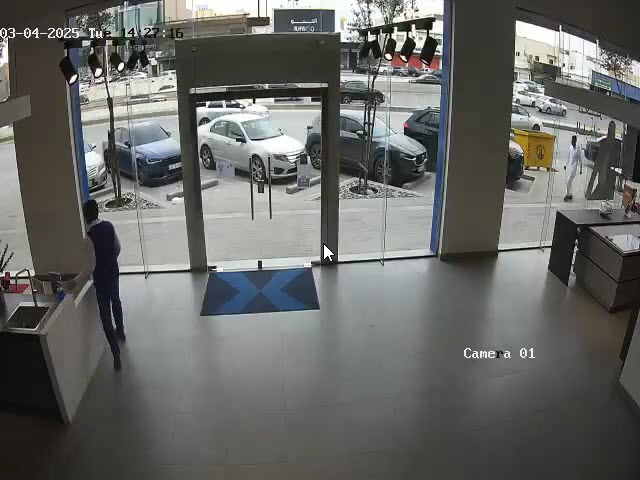employee: (82, 199, 126, 361)
male: (563, 135, 584, 201)
